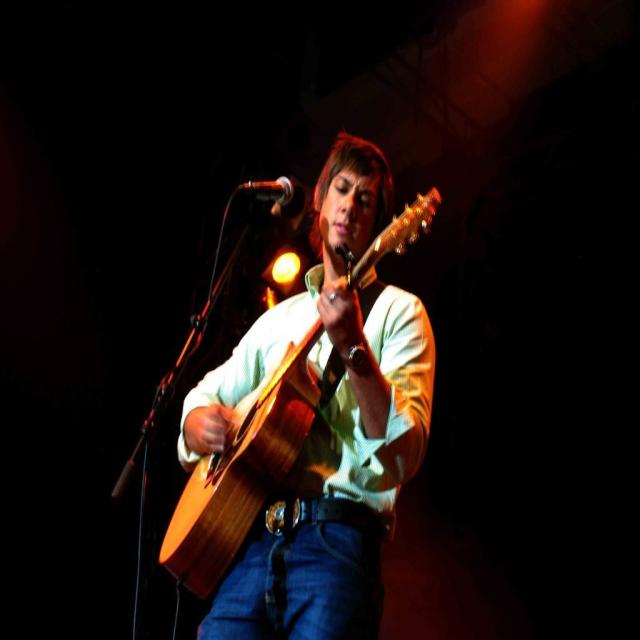guitar: (158, 188, 443, 599)
